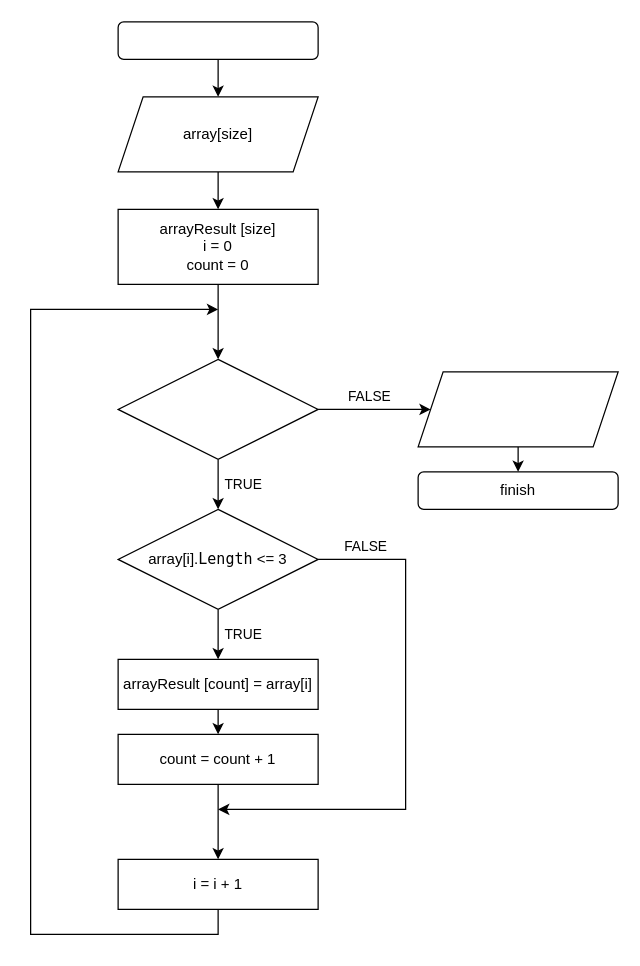
This 640x966 diagram has some shape labels left out. The box of each missing label's shape, as (x1, y1, x2, y2) in pixels:
arrayResult: (417, 371, 618, 447)
i < size: (117, 358, 318, 459)
start: (117, 21, 318, 59)
